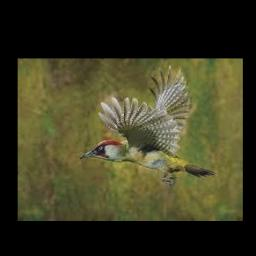Woodpecker: (79, 65, 217, 185)
